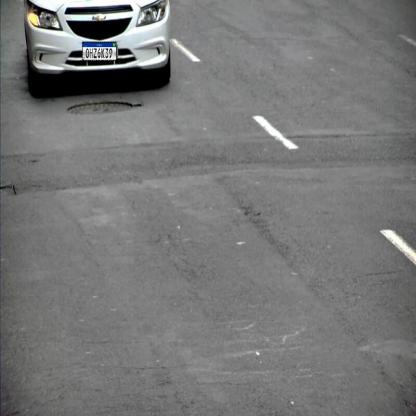PlacaM: (82, 42, 117, 61)
